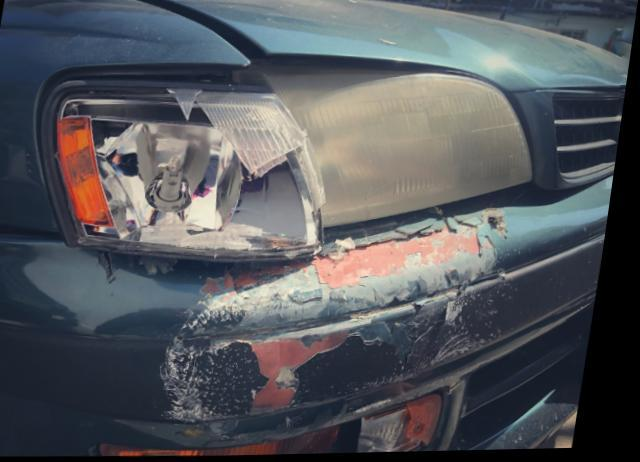lamp broken: (62, 84, 333, 256)
scratch: (169, 216, 528, 442)
